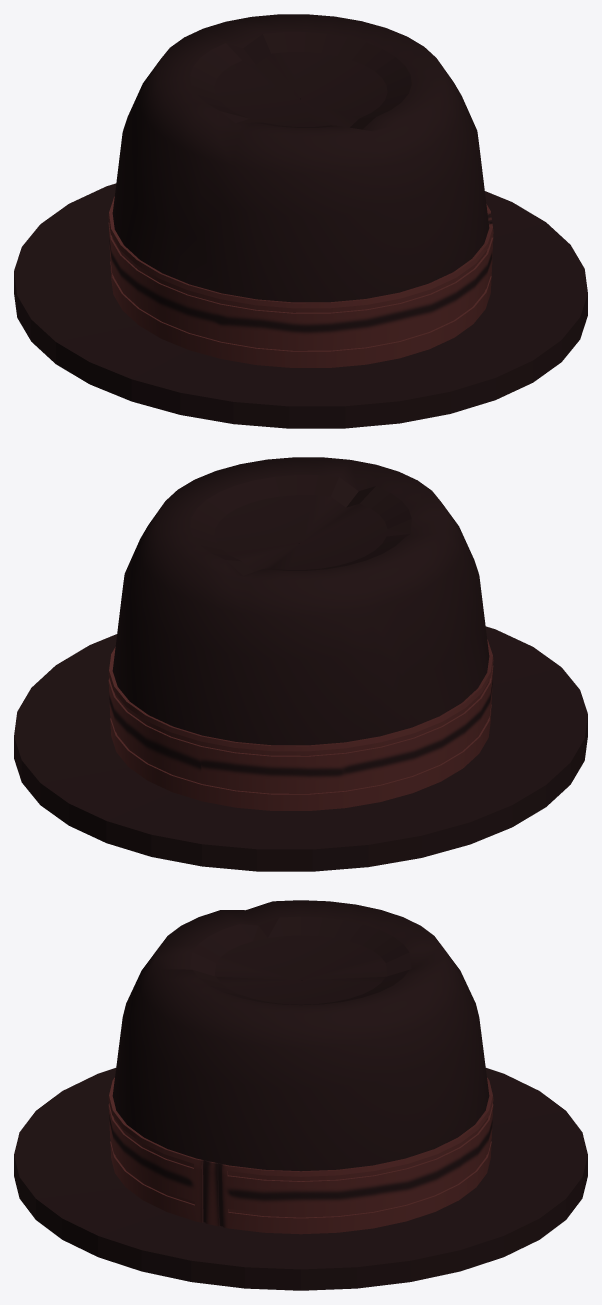
File: Mafioso_Hat.fbx
3 views of the same model, one above another, from view 1: azimuth 30°, elevation 25°; view 2: azimuth 150°, elevation 25°; view 3: azimuth 270°, elevation 25° (orthographic). The views are drawn at different scales.
Parts seen in each view (by area): view 1: Sphere001; view 2: Sphere001; view 3: Sphere001.
Part boxes in pixels (left/top/right/bottom): Sphere001: left=14, top=14, right=587, bottom=428; Sphere001: left=14, top=457, right=587, bottom=871; Sphere001: left=14, top=900, right=587, bottom=1290.
Bounding box in the file's own units: 19.57 × 8.68 × 20.7.
1 material, 1 textured.
